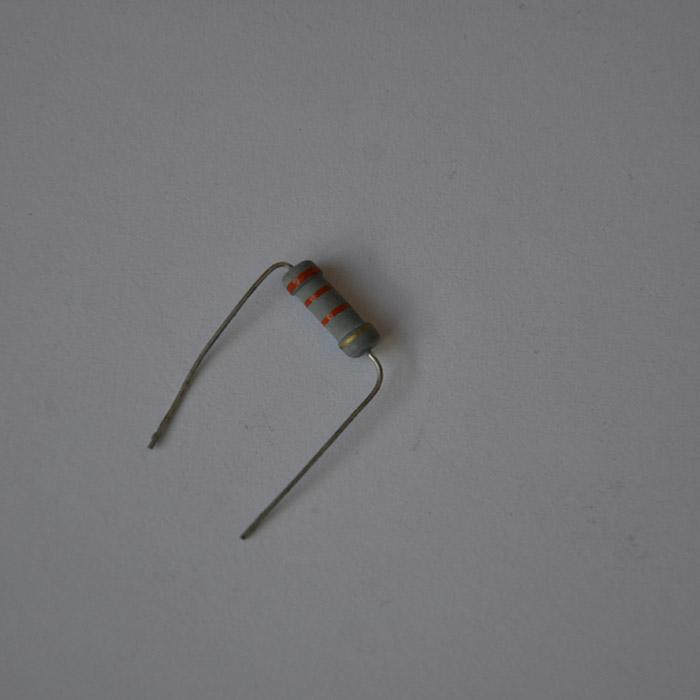resistor: (282, 259, 378, 358)
